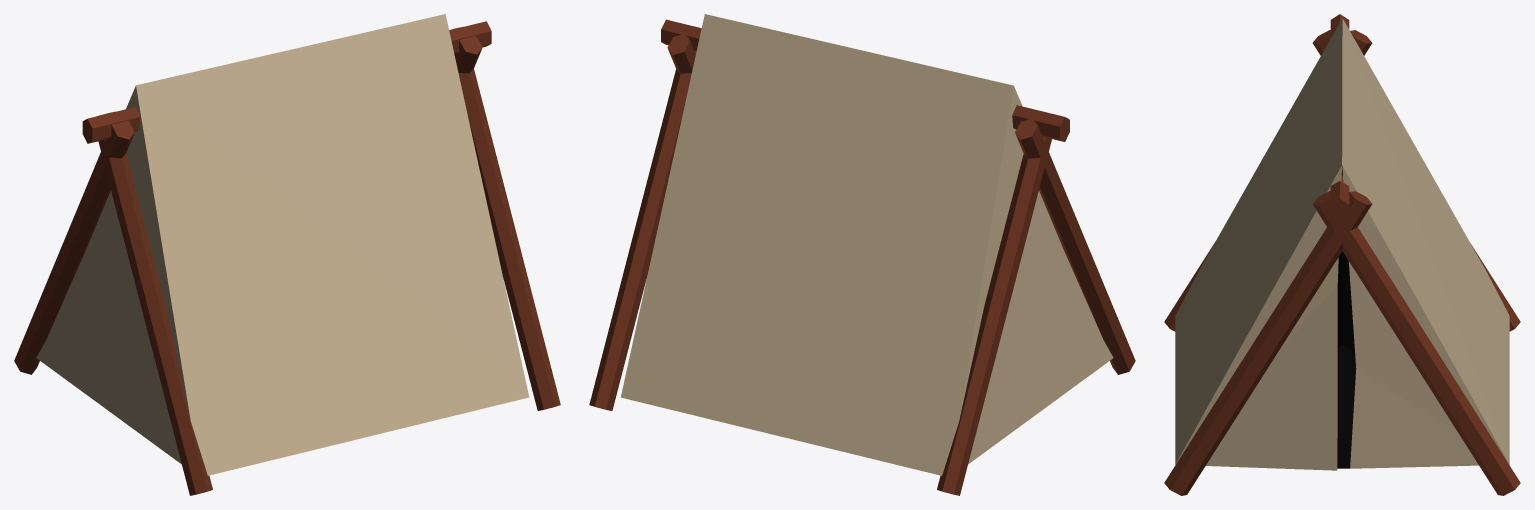
File: tent.dae
The picture shows the model from 3 angles, left to right: view 1: azimuth 30°, elevation 25°; view 2: azimuth 150°, elevation 25°; view 3: azimuth 270°, elevation 25°; orthographic projection. The views are drawn at different scales.
Parts seen in each view (by area): view 1: tent, wood; view 2: tent, wood; view 3: tent, wood.
Boxes of the visible parts, x1,y1,x2,y2 form: tent: (36,14,529,475); wood: (14,21,560,495); tent: (620,14,1113,475); wood: (589,19,1135,495); tent: (1175,18,1509,470); wood: (1164,14,1520,495).
Size of the model in its own units: 4.57 by 3.73 by 3.76.
